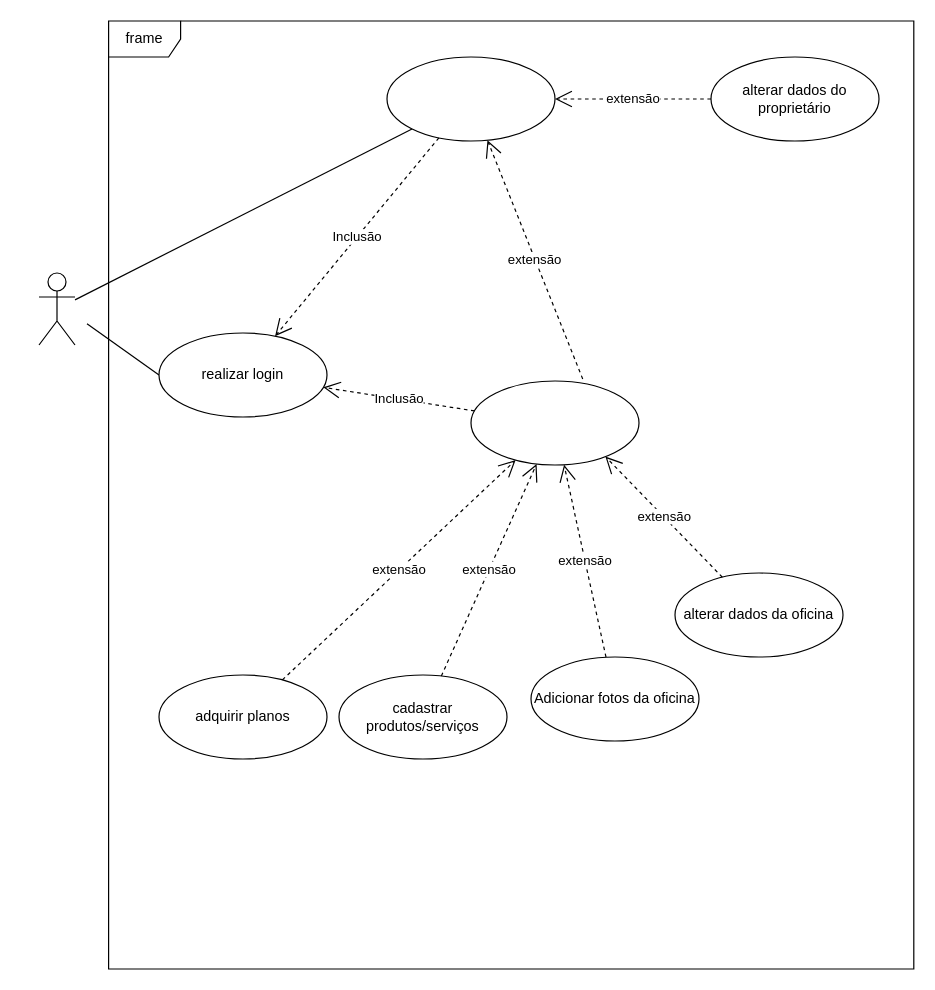
This 935x990 diagram has some shape labels left out. Here are the shapes that lost their labels. From the top down, the box of each, then its label:
(386, 56, 555, 141): Realizar cadastro de pessoa jurídica
(38, 272, 75, 345): proprietário
(470, 380, 639, 465): gerenciar oficinas
